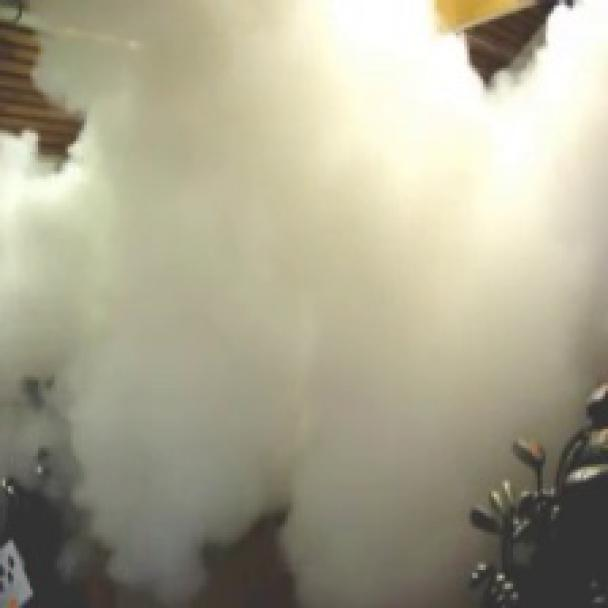smoke: (2, 0, 608, 608)
